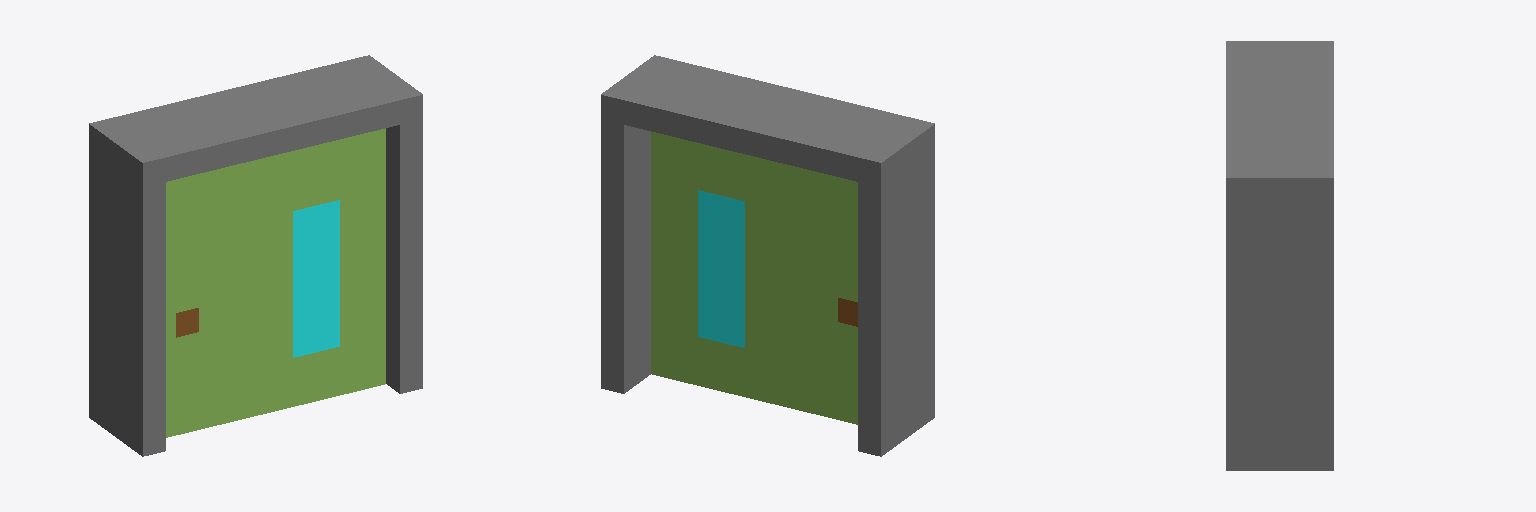
3 renders of one model, left to right at view 1: azimuth 30°, elevation 25°; view 2: azimuth 150°, elevation 25°; view 3: azimuth 270°, elevation 25°, orthographic.
Visible parts, largest first — view 1: object 1; view 2: object 1; view 3: object 1.
Part boxes in pixels (bbox=[...]): object 1: bbox=[89, 55, 422, 456]; object 1: bbox=[601, 55, 934, 456]; object 1: bbox=[1226, 41, 1333, 470].
Bounding box in the file's own units: 1.2 × 1.2 × 0.4.
Materials: 1 (1 with a texture image).